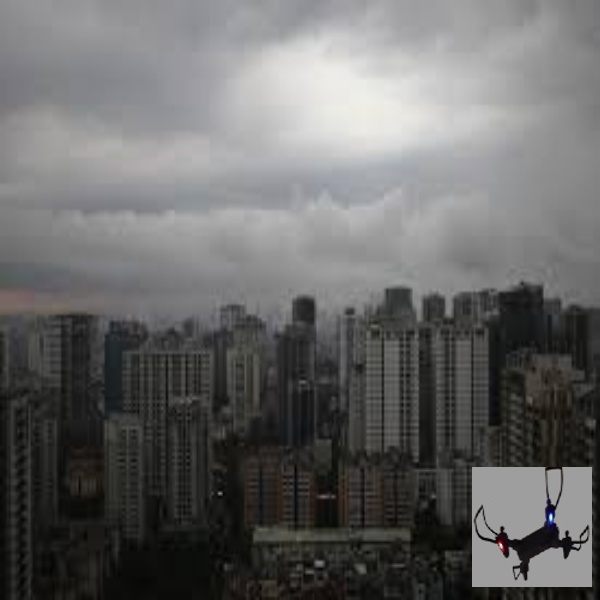drone: (474, 466, 593, 588)
